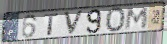6: (21, 14, 38, 39)
9: (85, 9, 104, 35)
M: (124, 6, 150, 31)
O: (105, 7, 126, 34)
T: (43, 12, 60, 37)
V: (63, 10, 85, 36)
